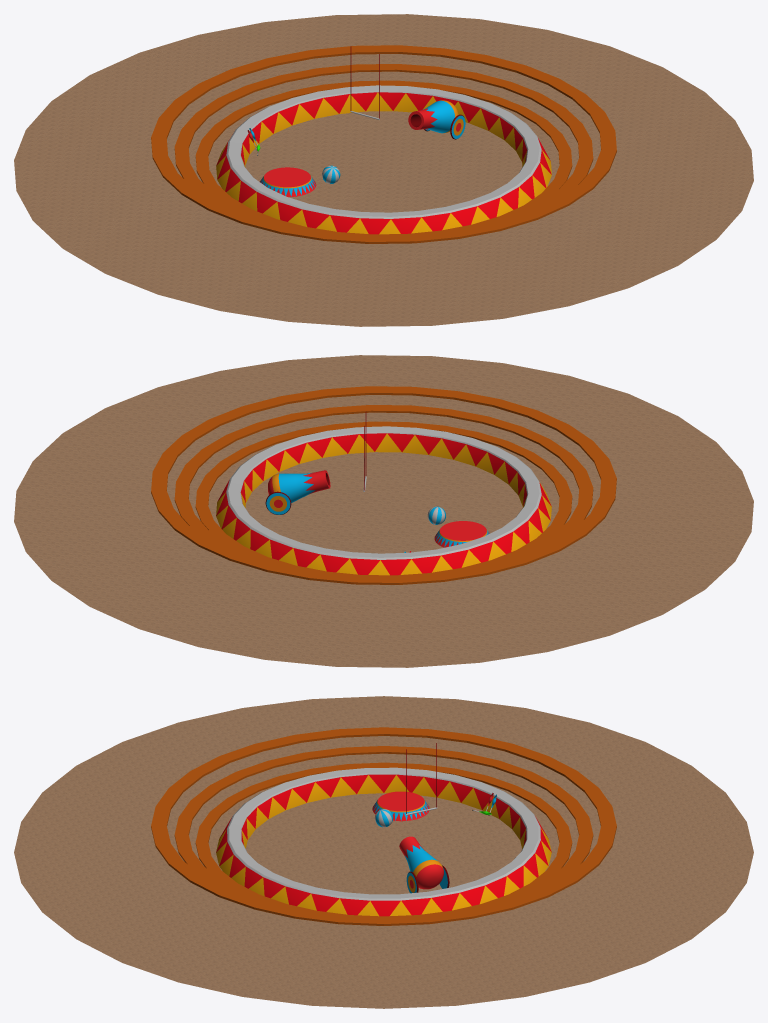
The model's file is cenariocircoWaM.fbx.
3 views of the same model, one above another, from view 1: azimuth 30°, elevation 25°; view 2: azimuth 150°, elevation 25°; view 3: azimuth 270°, elevation 25° (orthographic).
Parts seen in each view (by area): view 1: Circle, Circle.002, Circle.003, Circle.001, Circle.004; view 2: Circle, Circle.002, Circle.003, Circle.001, Circle.004; view 3: Circle, Circle.002, Circle.003, Circle.001, Circle.004.
Boxes of the visible parts, bbox=[...] form: Circle: bbox=[14, 14, 753, 326]; Circle.002: bbox=[151, 45, 616, 243]; Circle.003: bbox=[216, 85, 551, 234]; Circle.001: bbox=[408, 100, 465, 139]; Circle.004: bbox=[260, 167, 316, 197]; Circle: bbox=[14, 355, 753, 667]; Circle.002: bbox=[151, 386, 616, 584]; Circle.003: bbox=[216, 426, 551, 575]; Circle.001: bbox=[265, 470, 330, 514]; Circle.004: bbox=[434, 521, 489, 547]; Circle: bbox=[14, 696, 753, 1008]; Circle.002: bbox=[151, 727, 616, 925]; Circle.003: bbox=[216, 767, 551, 916]; Circle.001: bbox=[399, 836, 449, 893]; Circle.004: bbox=[372, 791, 429, 821].
Size of the model in its own units: 7988 by 1269 by 7988.
13 materials, 1 textured.
